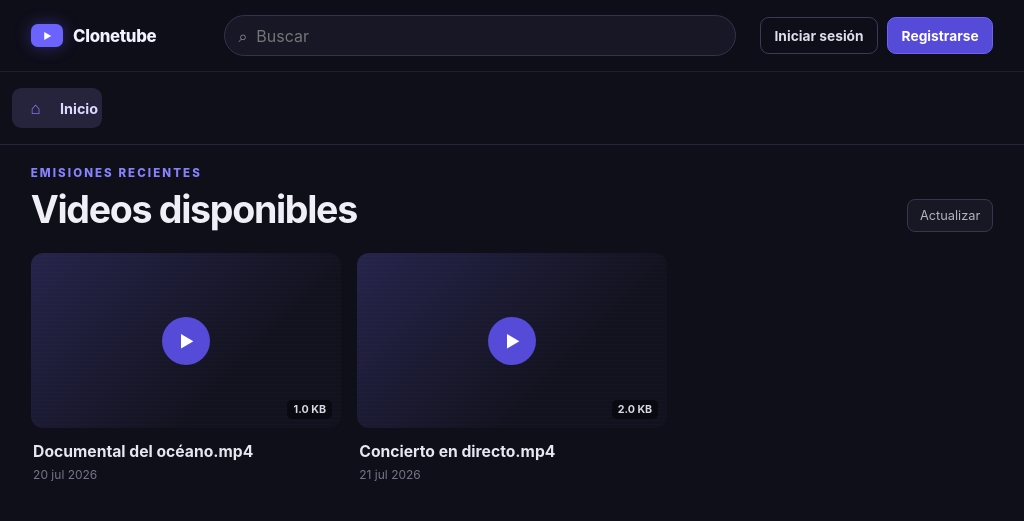
Test: IndexView search › filters videos by the available filename, ignoring accents and case
The image size is (1024, 521).
Step 1. Type "OCEANO" into the search field with placeholder "Buscar" → coordinates (489, 36), box top-left (256, 16), bottom-right (721, 55)
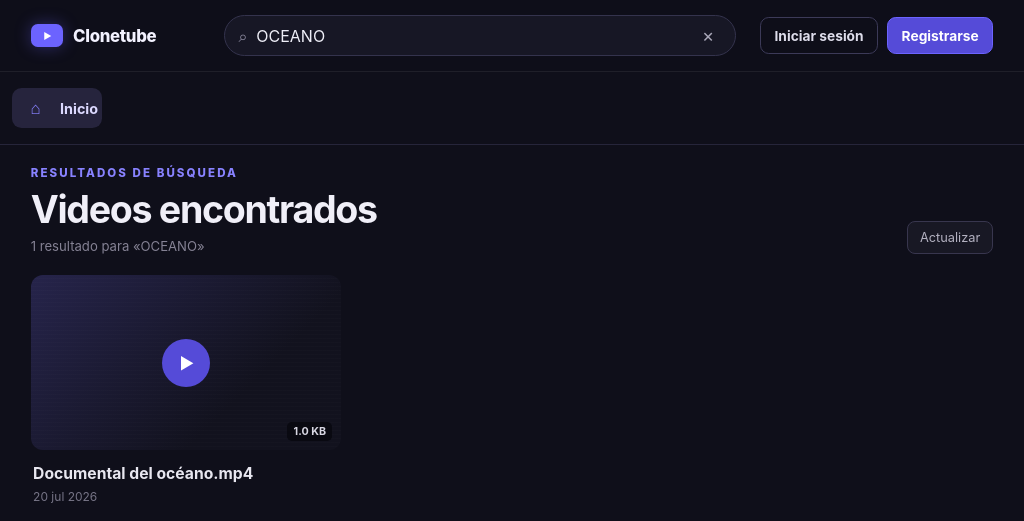
Expected: the element showing "▶ 1.0 KB Documental del océano.mp4 20 jul 2026" is shown, top-left (31, 276), bottom-right (341, 504)
Result: the text "1 resultado para «OCEANO»" is shown at top-left (31, 238), bottom-right (205, 254)
